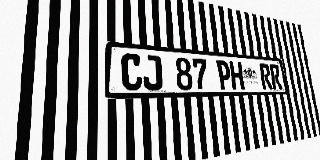7: (191, 58, 209, 90)
8: (175, 57, 193, 90)
C: (121, 53, 143, 91)
H: (229, 61, 245, 90)
J: (142, 54, 163, 90)
P: (216, 60, 232, 90)
R: (259, 63, 273, 89), (269, 64, 283, 89)
